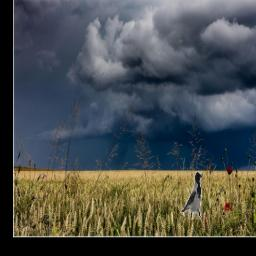Crow: (180, 171, 202, 220)
